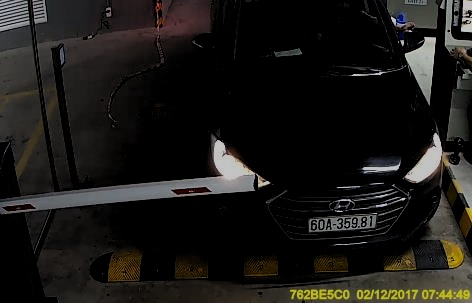plate: (307, 209, 381, 233)
